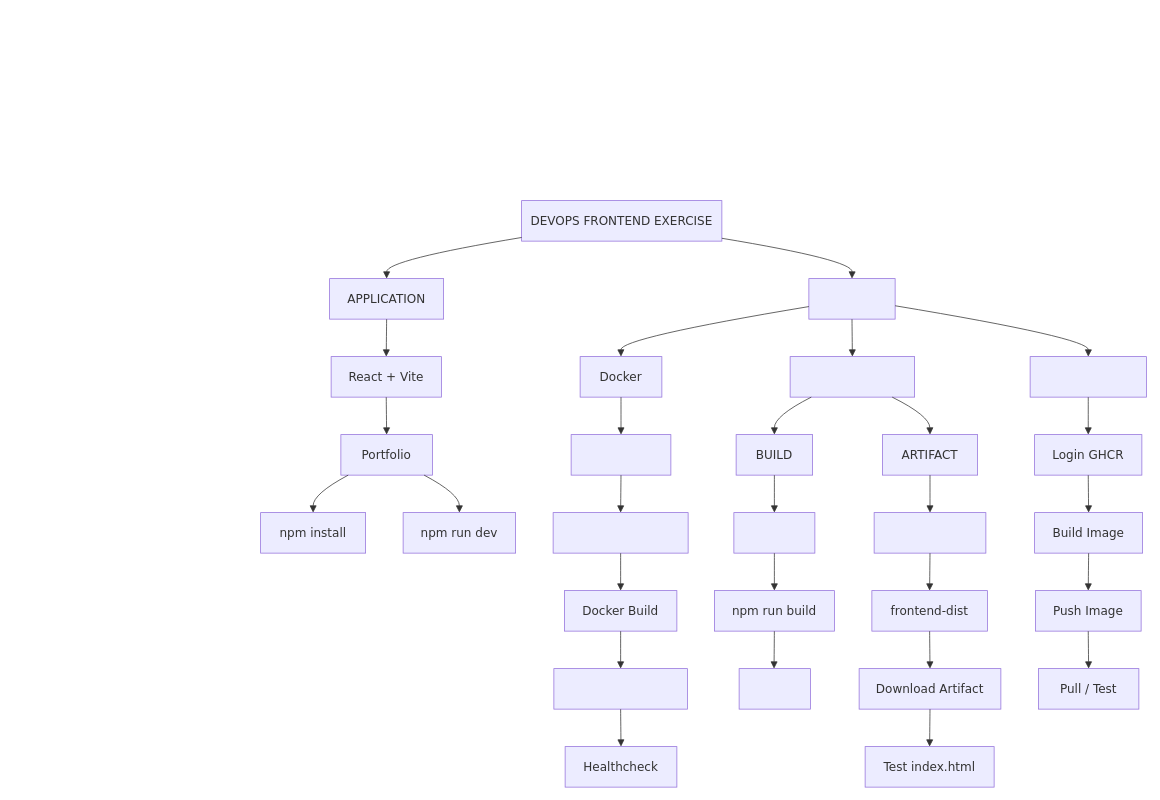
This 1160x800 diagram has some shape labels left out. Here are the shapes that lost their labels. From the top down, the centre of each, then its label:
At point (851, 298): "DEVOPS".
At point (852, 376): "GitHub Actions".
At point (1087, 376): "GitHub GHCR".
At point (620, 454): "Dockerfile".
At point (620, 532): "Multi-stage Build".
At point (774, 532): "npm ci".
At point (929, 532): "Upload dist/".
At point (620, 688): "Docker Compose".
At point (774, 688): "dist/".
